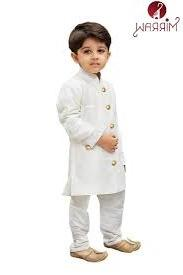Human: (54, 19, 148, 259)
